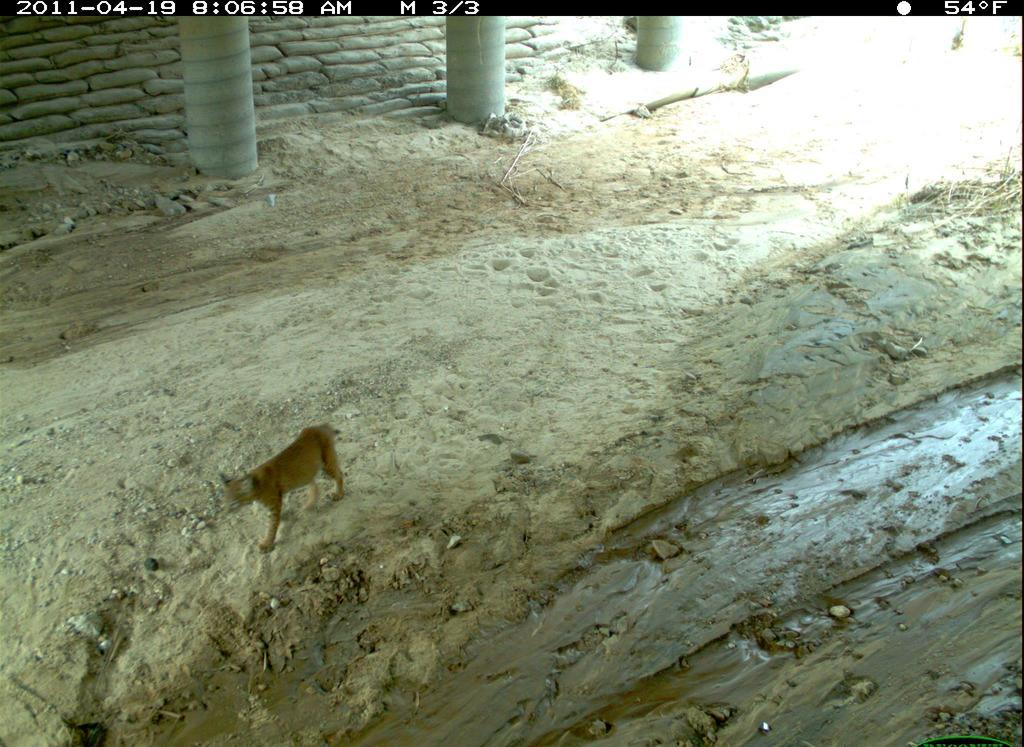bobcat: (218, 420, 355, 557)
